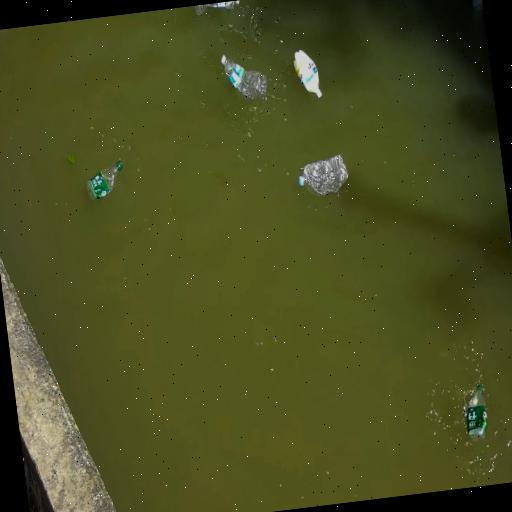plastic: (298, 153, 348, 200), (221, 56, 266, 100), (86, 160, 121, 200), (293, 50, 321, 98), (466, 385, 486, 440), (194, 0, 238, 15)
